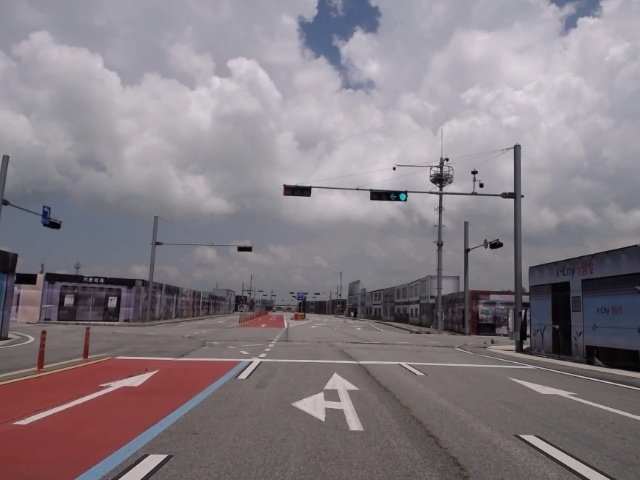all_green_4: (369, 191, 407, 203)
